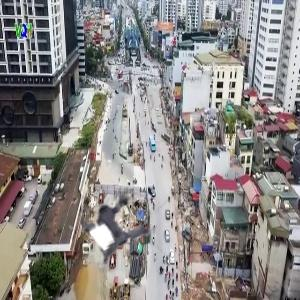drone: (66, 177, 165, 276)
